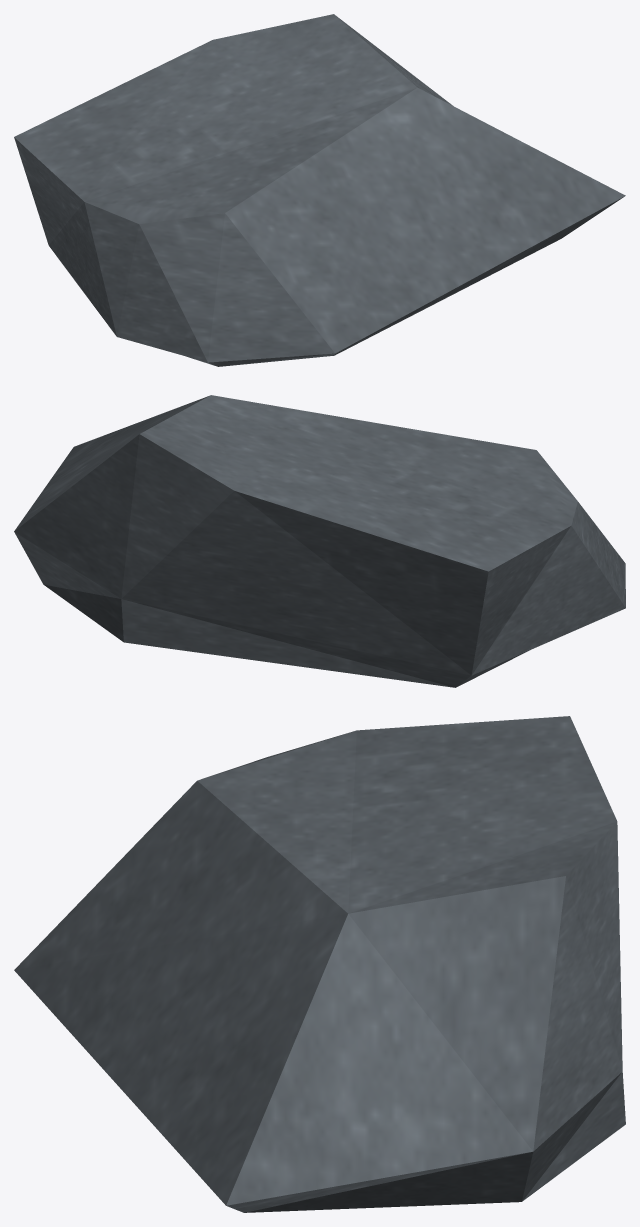
File: outcrop_fault_bench.glb
3 renders of one model, top to bottom at view 1: azimuth 30°, elevation 25°; view 2: azimuth 150°, elevation 25°; view 3: azimuth 270°, elevation 25°, orthographic. The views are drawn at different scales.
Visible parts, largest first — view 1: outcrop_fault_bench; view 2: outcrop_fault_bench; view 3: outcrop_fault_bench.
Part boxes in pixels (x1,y1,x2,y2): outcrop_fault_bench: (14, 14, 625, 366); outcrop_fault_bench: (14, 395, 625, 687); outcrop_fault_bench: (14, 716, 625, 1212).
Size of the model in its own units: 2.54 by 0.83 by 1.82.
Materials: 1 (1 with a texture image).
